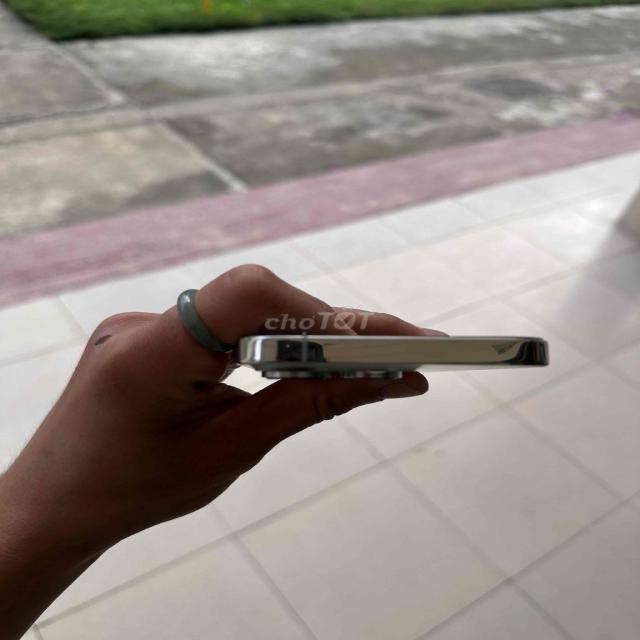gen_14: (225, 314, 573, 405)
